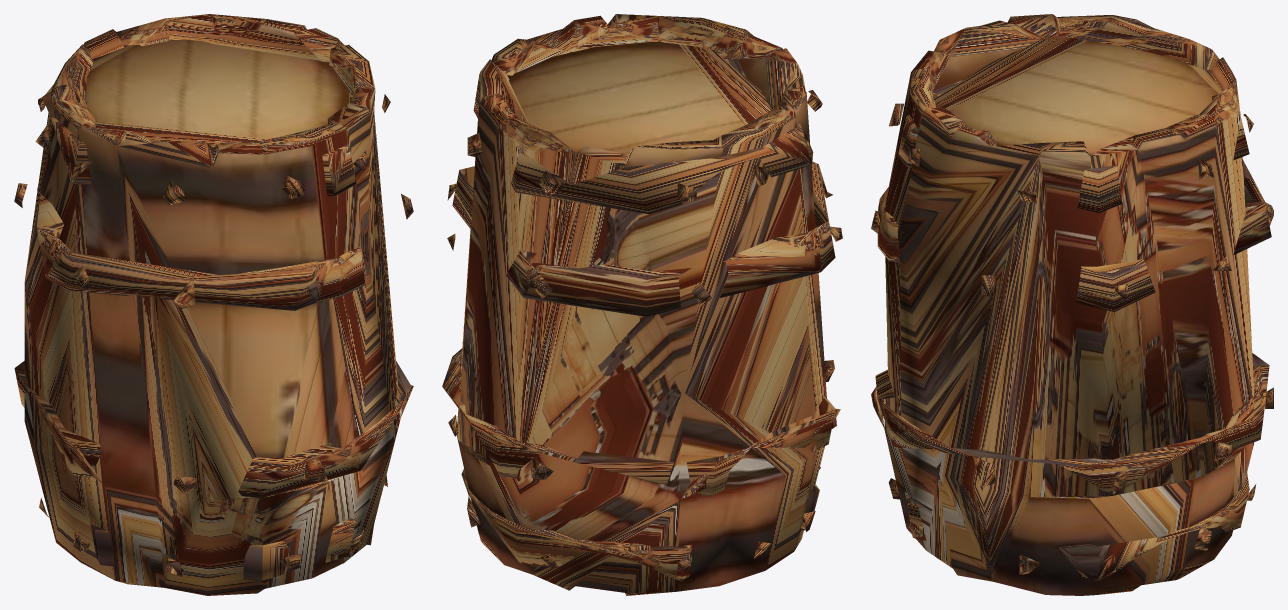
File: waterlogged_barrel.glb
The picture shows the model from 3 angles, left to right: view 1: azimuth 30°, elevation 25°; view 2: azimuth 150°, elevation 25°; view 3: azimuth 270°, elevation 25°; orthographic projection.
Parts seen in each view (by area): view 1: tripo_node_3b21097f-851b-4924-8641-ce4cd9a3f6b4; view 2: tripo_node_3b21097f-851b-4924-8641-ce4cd9a3f6b4; view 3: tripo_node_3b21097f-851b-4924-8641-ce4cd9a3f6b4.
Part boxes in pixels (x1,y1,x2,y2): tripo_node_3b21097f-851b-4924-8641-ce4cd9a3f6b4: [14, 14, 413, 595]; tripo_node_3b21097f-851b-4924-8641-ce4cd9a3f6b4: [442, 14, 842, 595]; tripo_node_3b21097f-851b-4924-8641-ce4cd9a3f6b4: [871, 14, 1273, 595].
Size of the model in its own units: 0.6637 by 0.8295 by 0.671.
1 material, 1 textured.
